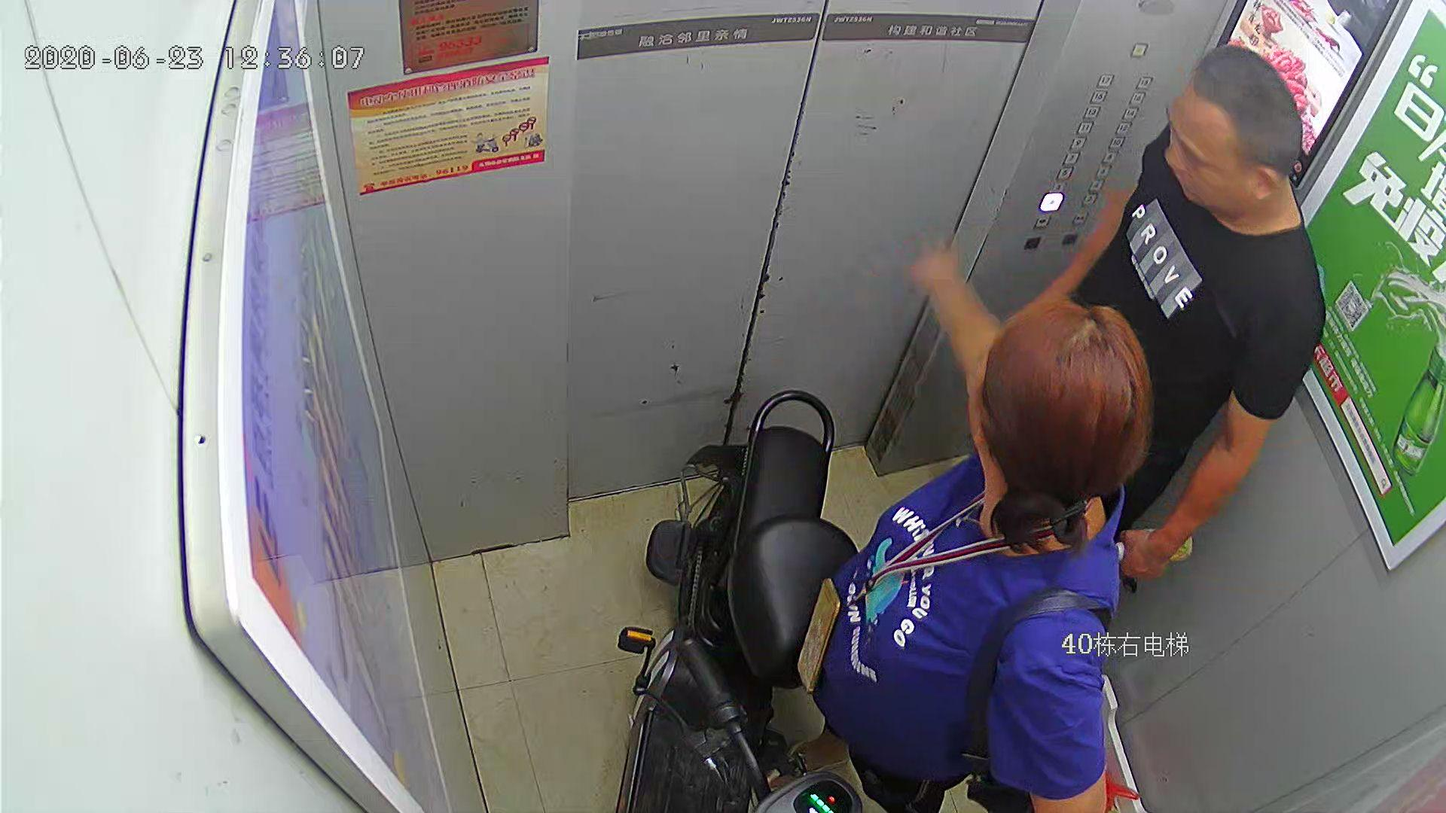Electric-bicycle: (627, 383, 871, 809)
